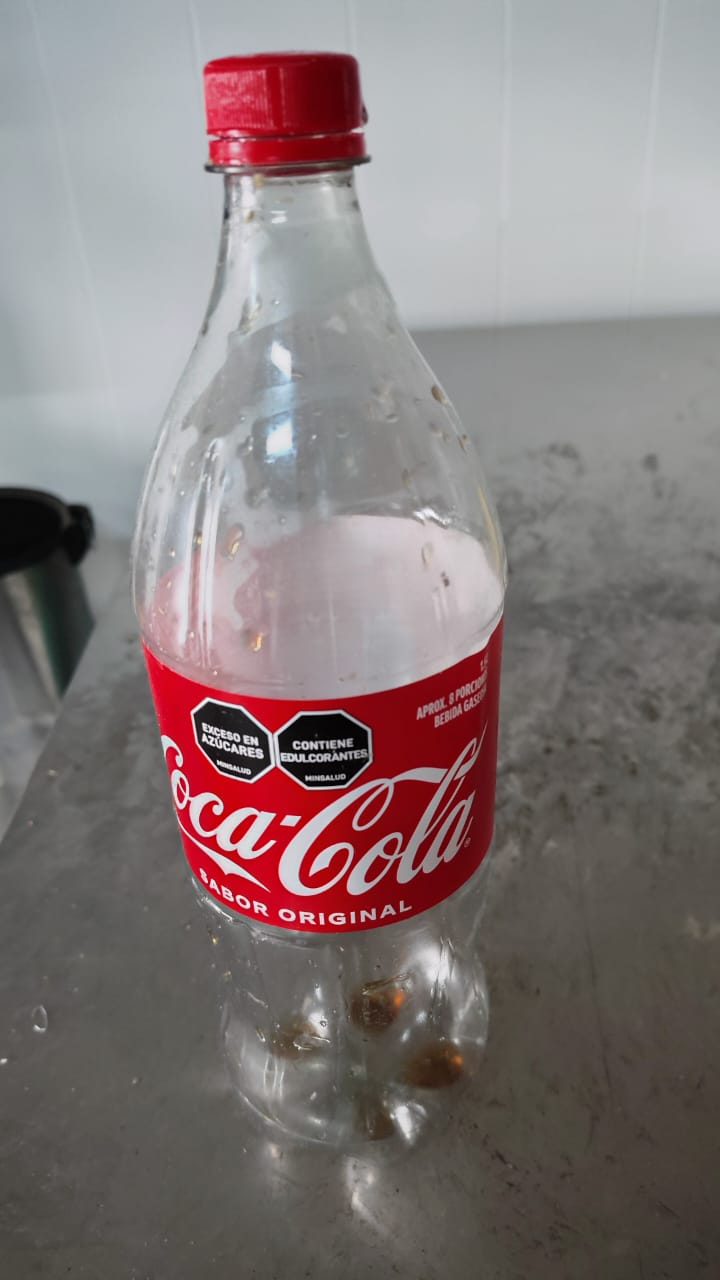Plastico: (132, 50, 509, 1162)
